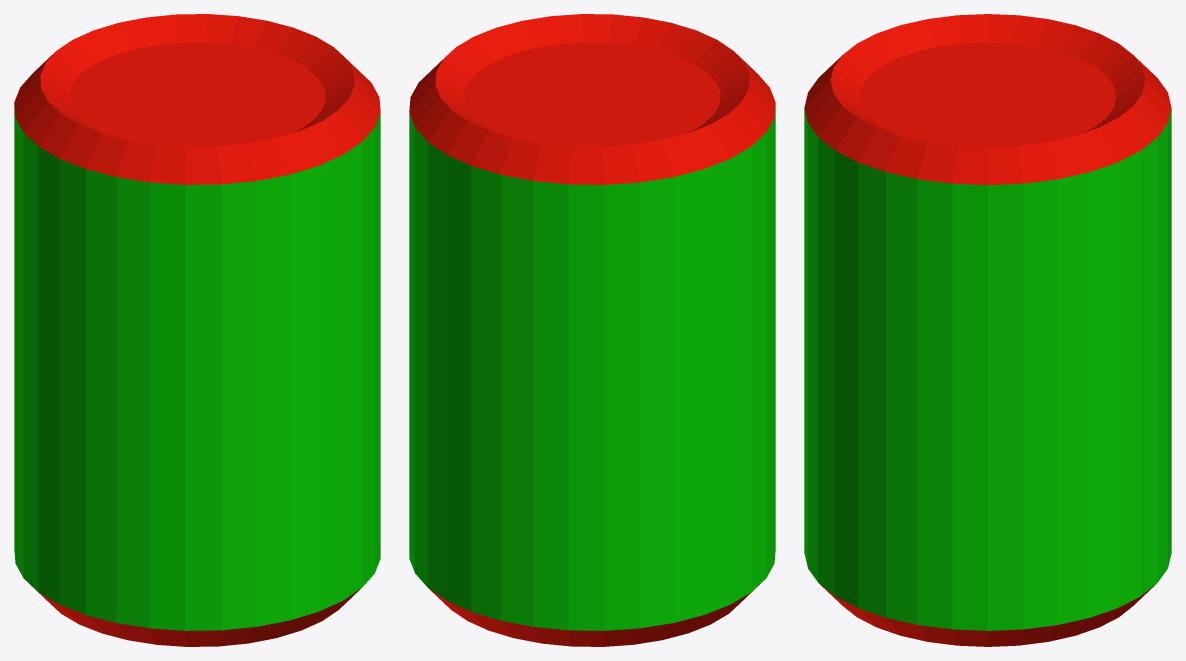
The model's file is lata_fbx.fbx.
The picture shows the model from 3 angles, left to right: view 1: azimuth 30°, elevation 25°; view 2: azimuth 150°, elevation 25°; view 3: azimuth 270°, elevation 25°; orthographic projection.
Visible parts, largest first — view 1: Cylinder; view 2: Cylinder; view 3: Cylinder.
Part boxes in pixels (box(x1,y1,x2,y2)): Cylinder: box(14, 14, 380, 646); Cylinder: box(409, 14, 775, 646); Cylinder: box(804, 14, 1171, 646).
Size of the model in its own units: 200 by 301 by 200.
